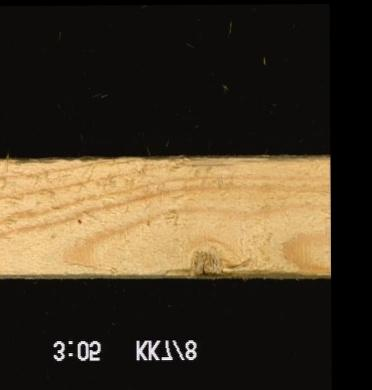edge_knot: (190, 236, 236, 278)
wave: (143, 153, 264, 172)
